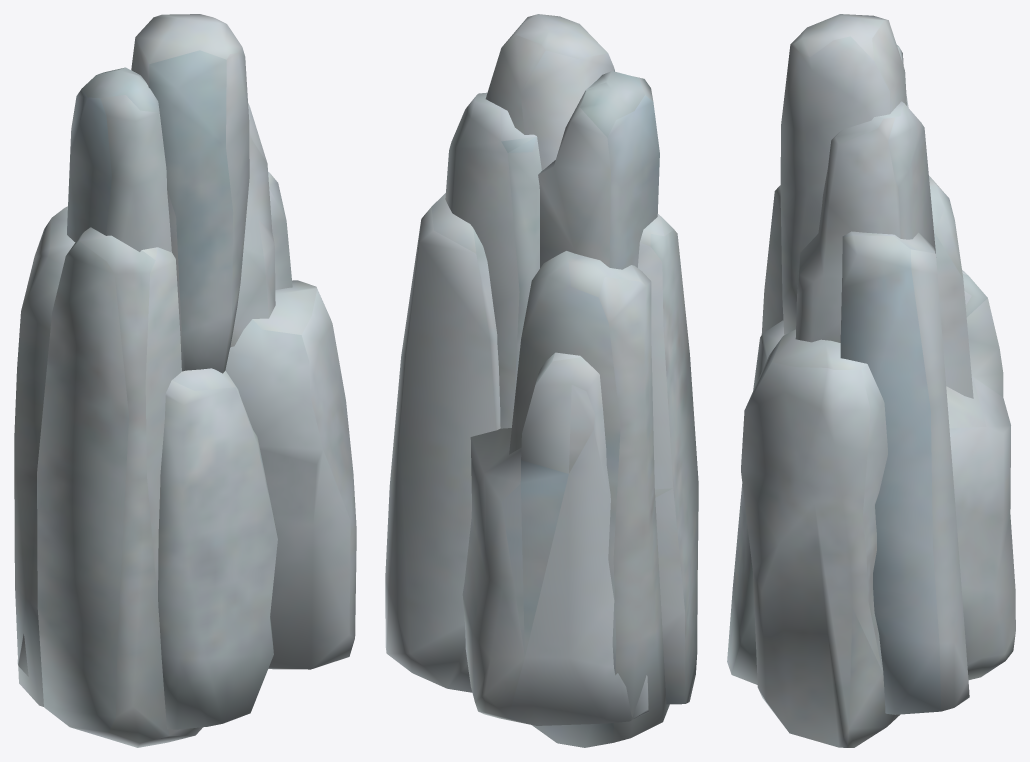
File: P_RockSpire_Spire04.obj
3 renders of one model, left to right at view 1: azimuth 30°, elevation 25°; view 2: azimuth 150°, elevation 25°; view 3: azimuth 270°, elevation 25°, orthographic. The views are drawn at different scales.
Size of the model in its own units: 39.78 by 90.86 by 34.52.
